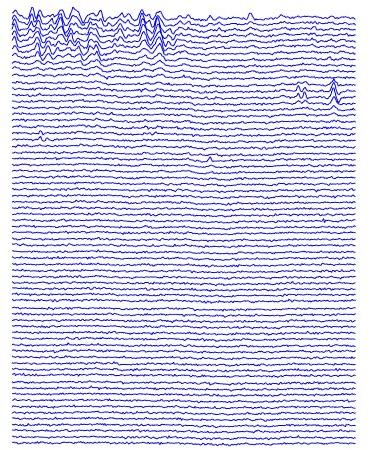defect: (56, 8, 104, 70), (132, 6, 169, 55), (26, 7, 50, 65), (327, 76, 346, 110), (12, 5, 23, 59), (32, 125, 49, 152), (295, 78, 308, 105)
